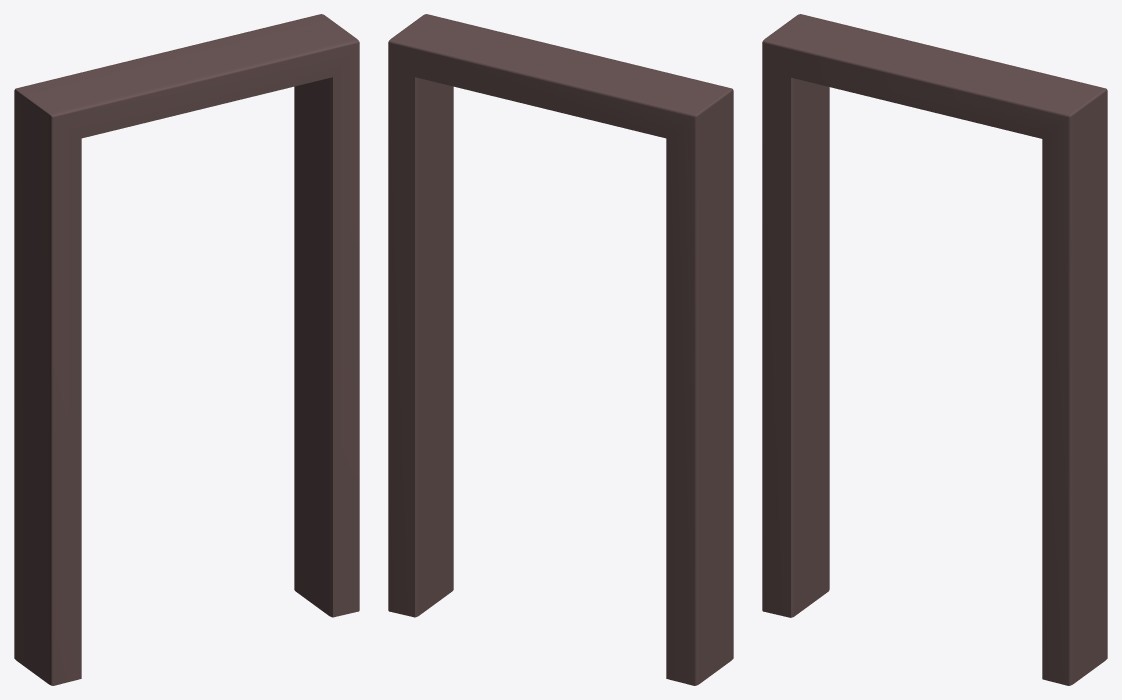
File: doorframe_nonuv.fbx
The picture shows the model from 3 angles, left to right: view 1: azimuth 30°, elevation 25°; view 2: azimuth 150°, elevation 25°; view 3: azimuth 330°, elevation 25°; orthographic projection.
Parts seen in each view (by area): view 1: doorframe; view 2: doorframe; view 3: doorframe.
Boxes of the visible parts, x1,y1,x2,y2 form: doorframe: (14,14,359,685); doorframe: (388,14,733,685); doorframe: (762,14,1107,685).
Size of the model in its own units: 1.24 by 2.19 by 0.2692.
